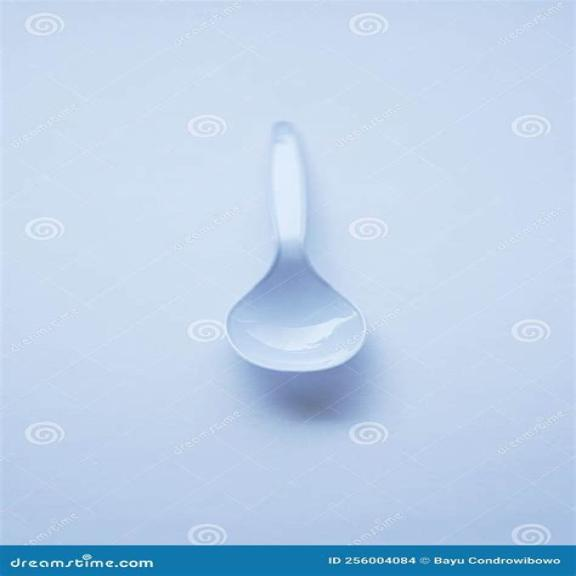Plastik: (227, 123, 365, 371)
